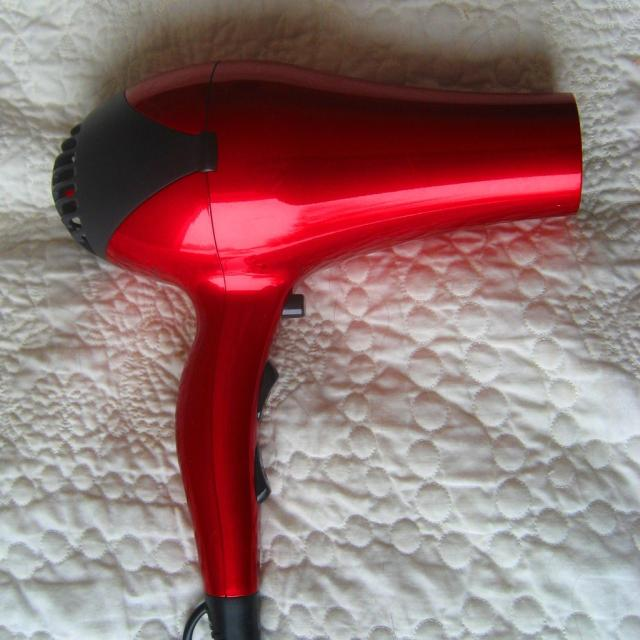dryer: (44, 41, 594, 612)
